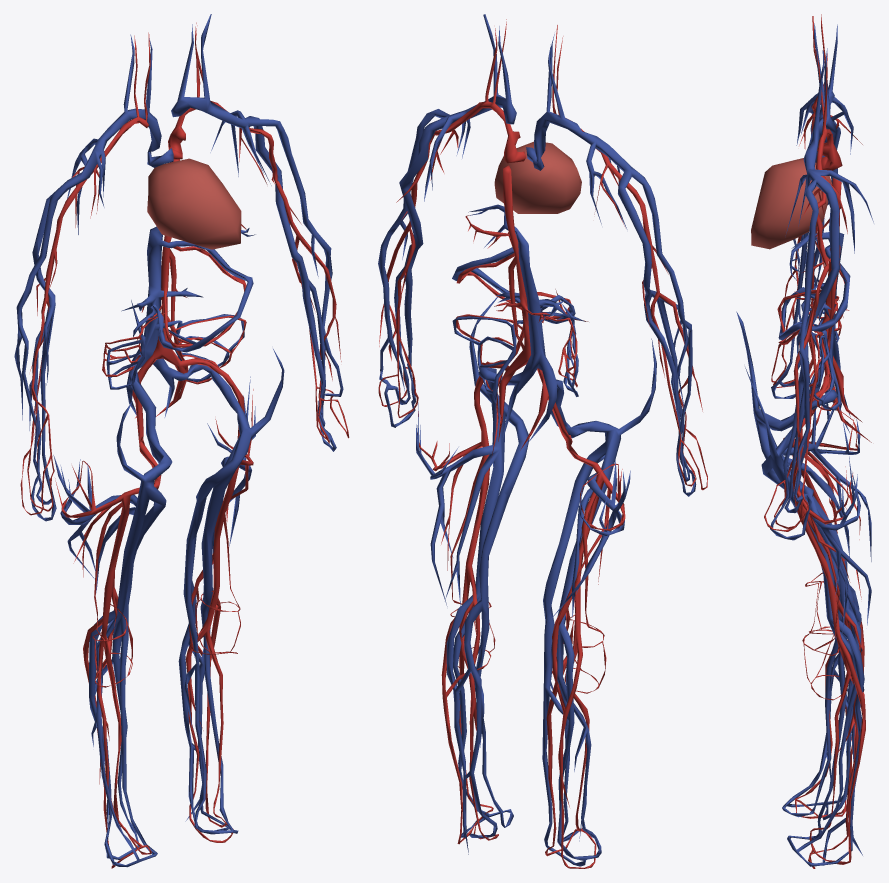
Rendered from pediatric_infant_female.cardiovascular.LOD3.glb.
3 views of the same model, side by side, from view 1: azimuth 30°, elevation 25°; view 2: azimuth 150°, elevation 25°; view 3: azimuth 270°, elevation 25° (orthographic). The views are drawn at different scales.
Visible parts, largest first — view 1: PEDIATRIC.INFANT.FEMALE.CARDIOVASCULAR.BLOOD_IN_LARGE_VEINS, PEDIATRIC.INFANT.FEMALE.CARDIOVASCULAR.BLOOD_IN_LARGE_ARTERI, PEDIATRIC.INFANT.FEMALE.CARDIOVASCULAR.HEART_WALL; view 2: PEDIATRIC.INFANT.FEMALE.CARDIOVASCULAR.BLOOD_IN_LARGE_VEINS, PEDIATRIC.INFANT.FEMALE.CARDIOVASCULAR.BLOOD_IN_LARGE_ARTERI, PEDIATRIC.INFANT.FEMALE.CARDIOVASCULAR.HEART_WALL; view 3: PEDIATRIC.INFANT.FEMALE.CARDIOVASCULAR.BLOOD_IN_LARGE_VEINS, PEDIATRIC.INFANT.FEMALE.CARDIOVASCULAR.BLOOD_IN_LARGE_ARTERI, PEDIATRIC.INFANT.FEMALE.CARDIOVASCULAR.HEART_WALL.
Boxes of the visible parts, <box> form: PEDIATRIC.INFANT.FEMALE.CARDIOVASCULAR.BLOOD_IN_LARGE_VEINS: <box>14,14,343,867</box>; PEDIATRIC.INFANT.FEMALE.CARDIOVASCULAR.BLOOD_IN_LARGE_ARTERI: <box>20,22,349,868</box>; PEDIATRIC.INFANT.FEMALE.CARDIOVASCULAR.HEART_WALL: <box>147,158,241,249</box>; PEDIATRIC.INFANT.FEMALE.CARDIOVASCULAR.BLOOD_IN_LARGE_VEINS: <box>378,14,696,866</box>; PEDIATRIC.INFANT.FEMALE.CARDIOVASCULAR.BLOOD_IN_LARGE_ARTERI: <box>378,19,707,868</box>; PEDIATRIC.INFANT.FEMALE.CARDIOVASCULAR.HEART_WALL: <box>494,141,581,213</box>; PEDIATRIC.INFANT.FEMALE.CARDIOVASCULAR.BLOOD_IN_LARGE_VEINS: <box>736,23,873,866</box>; PEDIATRIC.INFANT.FEMALE.CARDIOVASCULAR.BLOOD_IN_LARGE_ARTERI: <box>764,14,871,868</box>; PEDIATRIC.INFANT.FEMALE.CARDIOVASCULAR.HEART_WALL: <box>751,158,832,249</box>.
Size of the model in its own units: 0.2556 by 0.632 by 0.0972.
